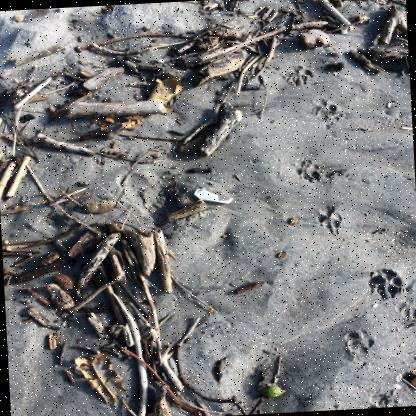Other plastic bottle: (194, 188, 233, 203)
Plastic bottle cap: (341, 27, 347, 34)
